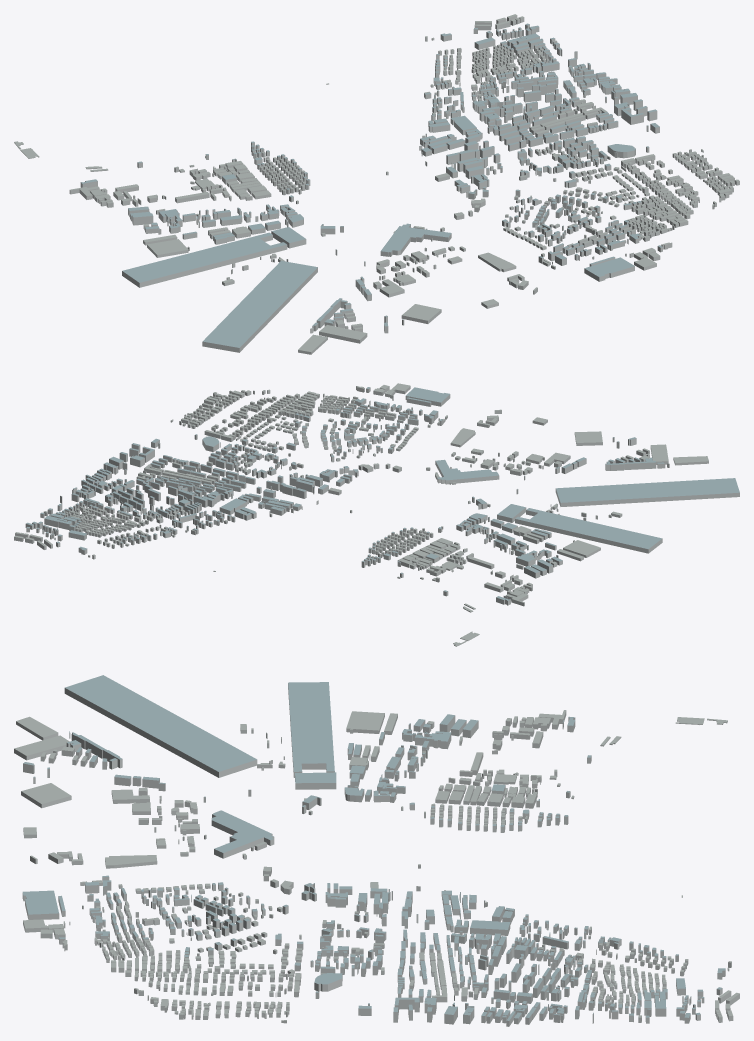
Rendered from far.glb.
3 views of the same model, one above another, from view 1: azimuth 30°, elevation 25°; view 2: azimuth 150°, elevation 25°; view 3: azimuth 270°, elevation 25° (orthographic). The views are drawn at different scales.
Size of the model in its own units: 2400 by 34.95 by 2128.
